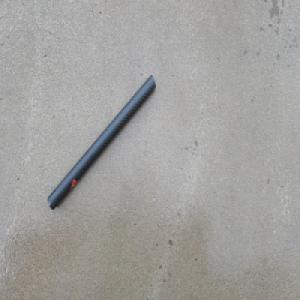LuggagePart: (47, 73, 157, 212)
